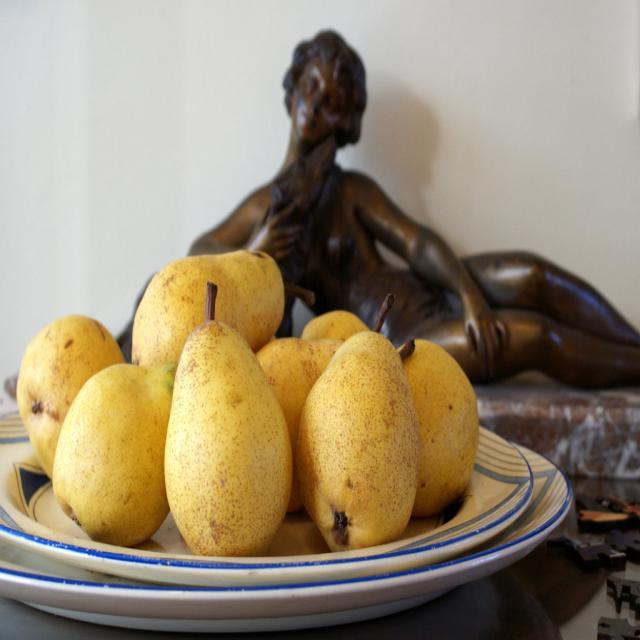pear: (14, 248, 478, 552), (164, 318, 294, 556), (291, 325, 418, 553)
